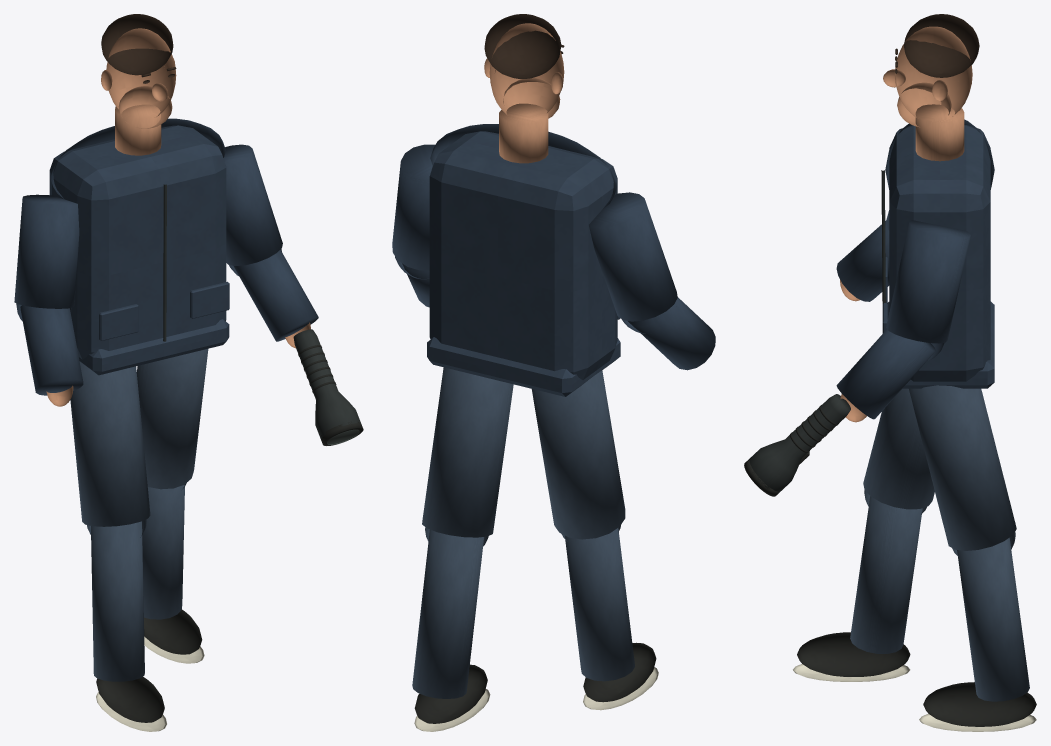
Rendered from organizer_static.glb.
3 renders of one model, left to right at view 1: azimuth 30°, elevation 25°; view 2: azimuth 150°, elevation 25°; view 3: azimuth 270°, elevation 25°, orthographic. The views are drawn at different scales.
Parts seen in each view (by area): view 1: Character_static_mesh, Body.001, Bezel.001; view 2: Character_static_mesh; view 3: Character_static_mesh, Body.001.
Part boxes in pixels (x1,y1,x2,y2): Character_static_mesh: (14, 14, 318, 731); Body.001: (293, 329, 361, 438); Bezel.001: (320, 421, 363, 445); Character_static_mesh: (392, 14, 715, 731); Character_static_mesh: (793, 14, 1036, 731); Body.001: (748, 394, 850, 493).
Size of the model in its own units: 0.7977 by 1.79 by 0.6952.
9 materials, 9 textured.
